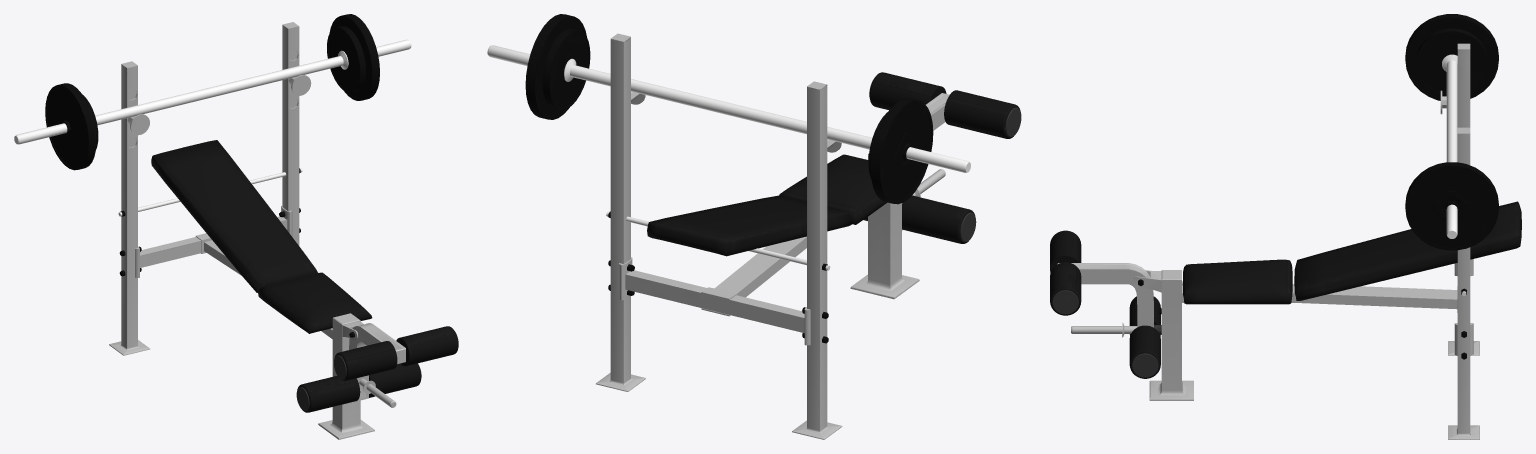
The picture shows the model from 3 angles, left to right: view 1: azimuth 30°, elevation 25°; view 2: azimuth 150°, elevation 25°; view 3: azimuth 270°, elevation 25°; orthographic projection. The views are drawn at different scales.
Visible parts, largest first — view 1: Box001__0; view 2: Box001__0; view 3: Box001__0.
Part boxes in pixels (x1=…): Box001__0: x1=14, y1=14, x2=458, y2=439; Box001__0: x1=487, y1=14, x2=1021, y2=439; Box001__0: x1=1050, y1=14, x2=1521, y2=439.
Size of the model in its own units: 196 by 135 by 191.
Materials: 1 (1 with a texture image).
